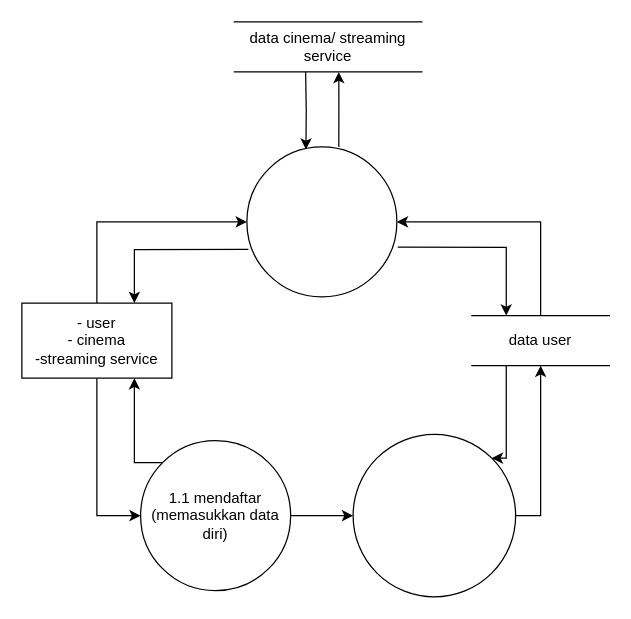
Image size: 631x619. Some labels were removed from this diagram. The centre of each missing label's shape, as x and y in pixels:
"1.2 konfirmasi/verifikasi info pendaftaran melalui e-mail/no hp" belongs at pixel 434 515.
"1.3 login (masukkan id/user name) dan password" belongs at pixel 321 221.
